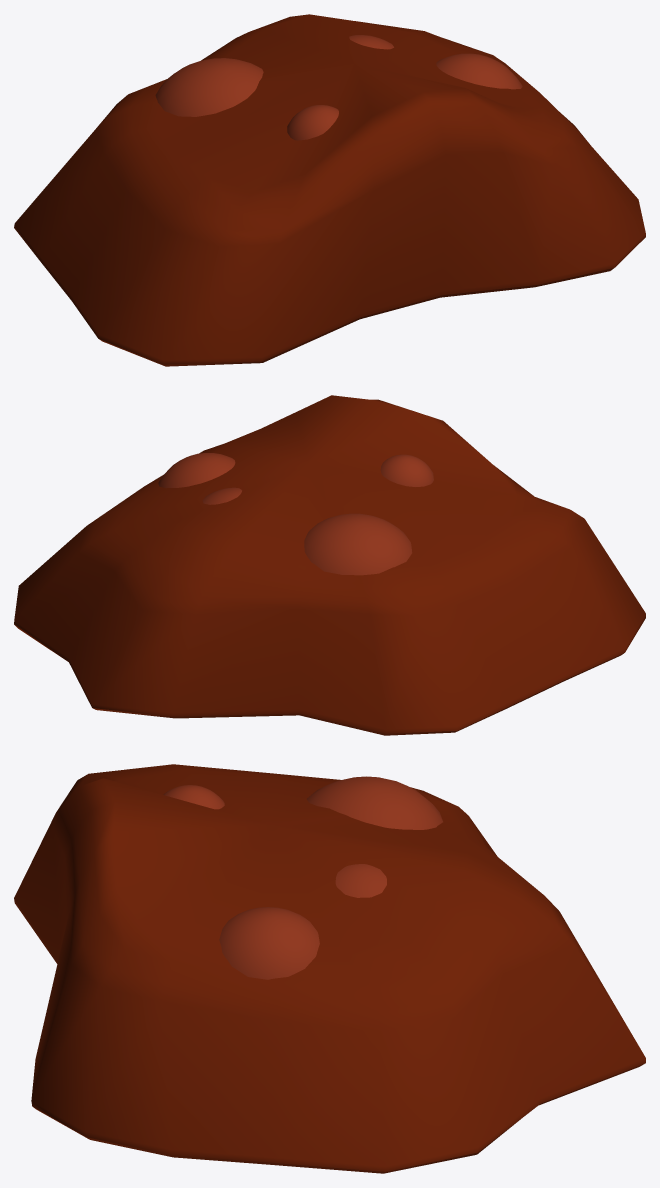
The model's file is Sambal.fbx.
The picture shows the model from 3 angles, top to bottom: view 1: azimuth 30°, elevation 25°; view 2: azimuth 150°, elevation 25°; view 3: azimuth 270°, elevation 25°; orthographic projection. The views are drawn at different scales.
Visible parts, largest first — view 1: Sambal; view 2: Sambal; view 3: Sambal.
Part boxes in pixels (left/top/right/bottom): Sambal: left=14, top=14, right=645, bottom=366; Sambal: left=14, top=395, right=645, bottom=735; Sambal: left=14, top=764, right=645, bottom=1173.
Size of the model in its own units: 17.34 by 5.66 by 14.35.
